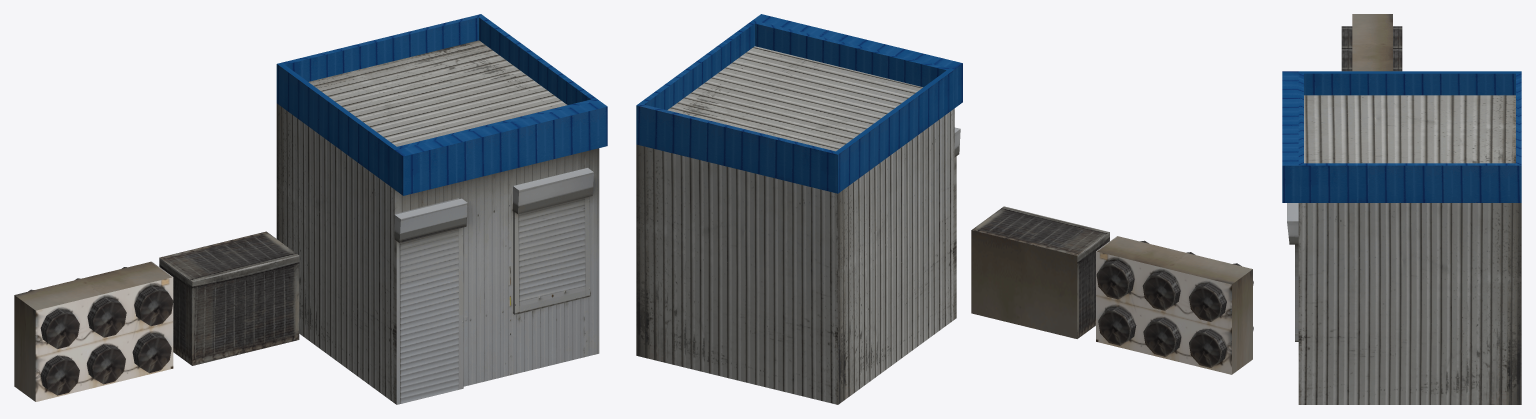
The model's file is kiosk + 2 conditioners.fbx.
3 views of the same model, side by side, from view 1: azimuth 30°, elevation 25°; view 2: azimuth 150°, elevation 25°; view 3: azimuth 270°, elevation 25° (orthographic). The views are drawn at different scales.
Visible parts, largest first — view 1: Kiosk, Cube.001, Cube, door, window; view 2: Kiosk, Cube.001, Cube; view 3: Kiosk, Cube.001.
Part boxes in pixels (left/top/right/bottom): Kiosk: left=276, top=14, right=607, bottom=404; Cube.001: left=14, top=261, right=173, bottom=401; Cube: left=159, top=231, right=299, bottom=365; door: left=396, top=227, right=463, bottom=404; window: left=515, top=196, right=589, bottom=314; Kiosk: left=636, top=14, right=962, bottom=404; Cube.001: left=1096, top=236, right=1253, bottom=374; Cube: left=971, top=206, right=1109, bottom=338; Kiosk: left=1282, top=71, right=1521, bottom=404; Cube.001: left=1341, top=14, right=1402, bottom=71.
Size of the model in its own units: 1747 by 791 by 716.
Materials: 1 (1 with a texture image).
